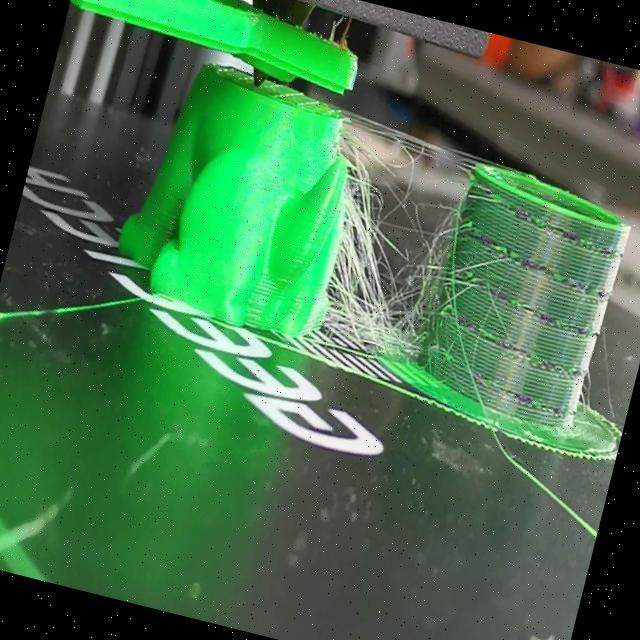stringing: (325, 112, 478, 361)
